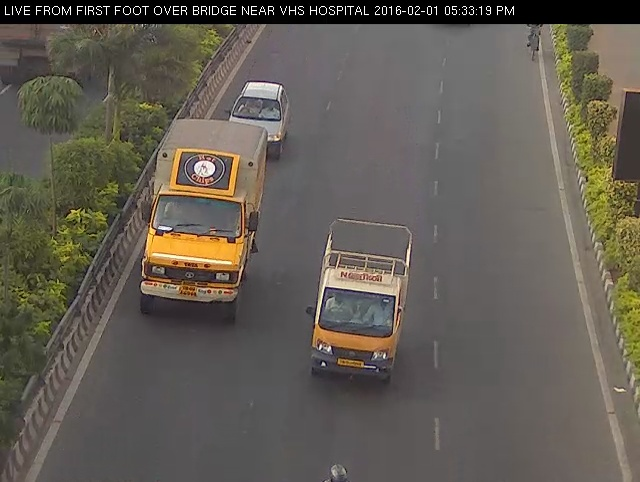Auto: (303, 209, 417, 393)
Bus: (120, 111, 274, 338)
Car: (228, 71, 297, 153)
Person: (317, 451, 356, 482)
